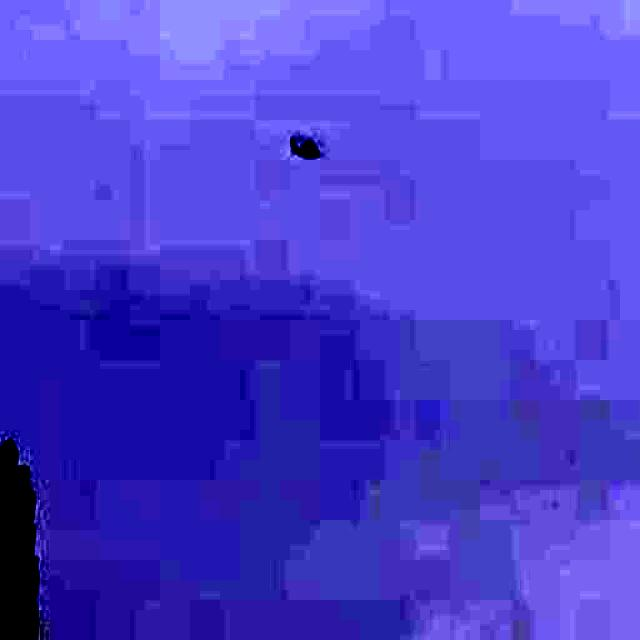drone: (279, 121, 332, 169)
